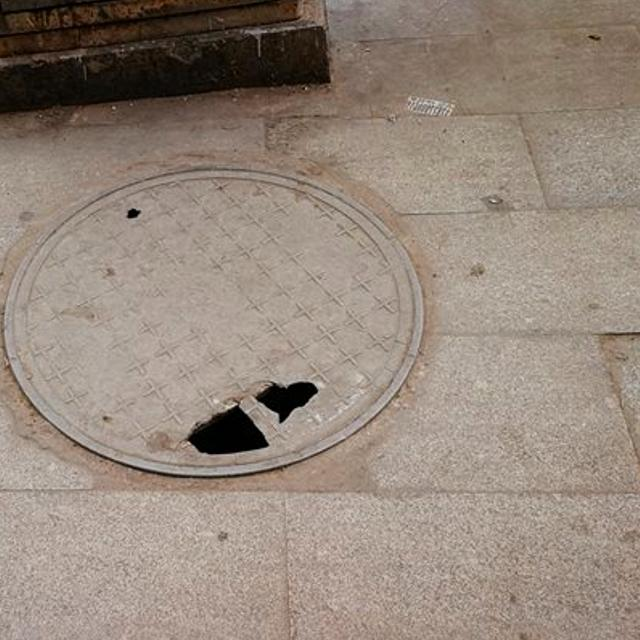broke: (3, 161, 423, 476)
